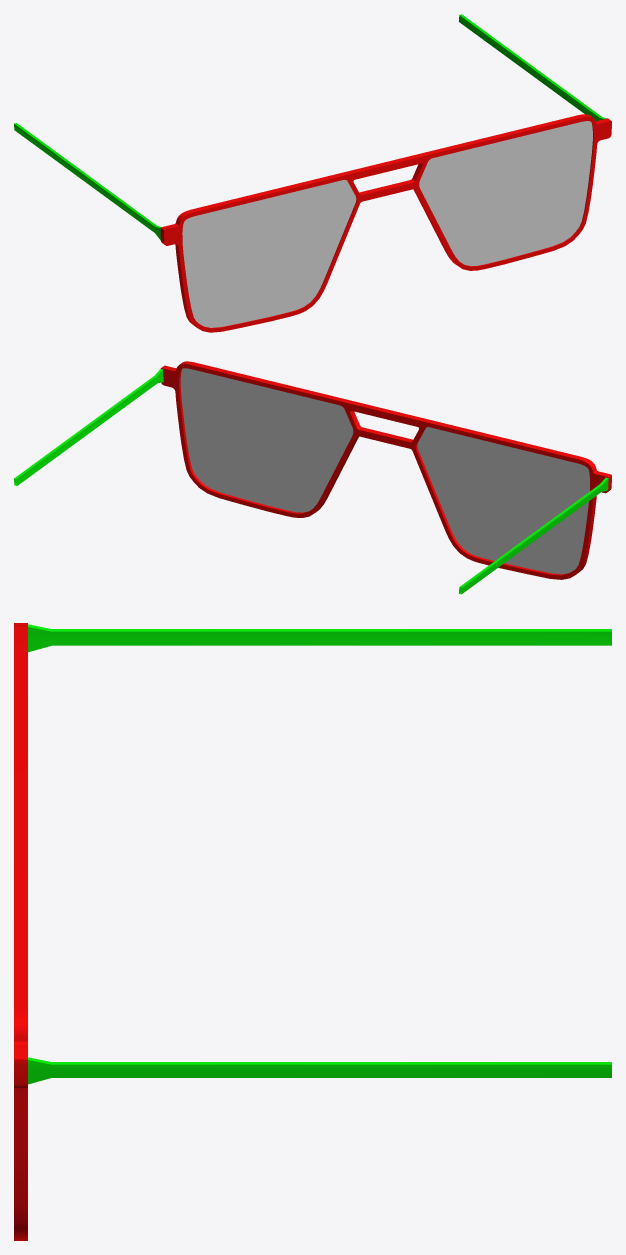
File: ZAIS NeoRetro Glasses Wide Cutoff.fbx
The picture shows the model from 3 angles, top to bottom: view 1: azimuth 30°, elevation 25°; view 2: azimuth 150°, elevation 25°; view 3: azimuth 270°, elevation 25°; orthographic projection. The views are drawn at different scales.
Parts seen in each view (by area): view 1: Zais NeoRetro Frames Wide Cutoff; view 2: Zais NeoRetro Frames Wide Cutoff; view 3: Zais NeoRetro Frames Wide Cutoff.
Boxes of the visible parts, x1,y1,x2,y2 form: Zais NeoRetro Frames Wide Cutoff: [14, 14, 611, 332]; Zais NeoRetro Frames Wide Cutoff: [14, 361, 611, 594]; Zais NeoRetro Frames Wide Cutoff: [14, 623, 611, 1240].
Bounding box in the file's own units: 0.1737 × 0.0474 × 0.1008.
